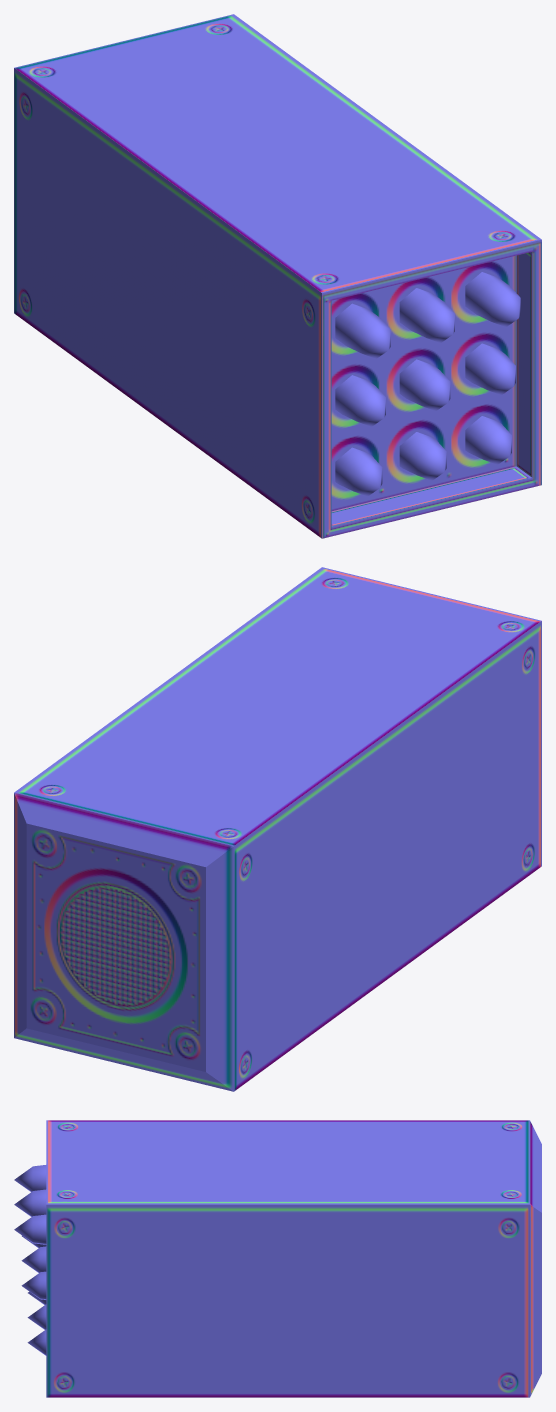
The model's file is RocketLauncher_Body.FBX.
3 renders of one model, top to bottom at view 1: azimuth 30°, elevation 25°; view 2: azimuth 150°, elevation 25°; view 3: azimuth 270°, elevation 25°, orthographic. The views are drawn at different scales.
Parts seen in each view (by area): view 1: Box039; view 2: Box039; view 3: Box039.
Part boxes in pixels (x1,y1,x2,y2): Box039: [14, 14, 541, 538]; Box039: [14, 567, 541, 1091]; Box039: [14, 1120, 541, 1397].
Size of the model in its own units: 29.92 by 31.92 by 79.23.
